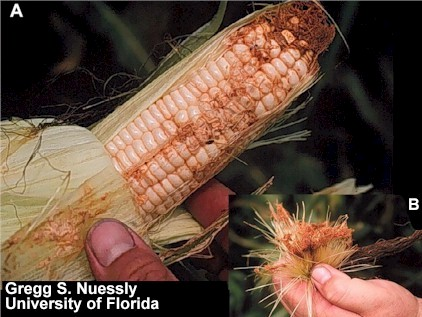corn: (1, 0, 351, 281)
